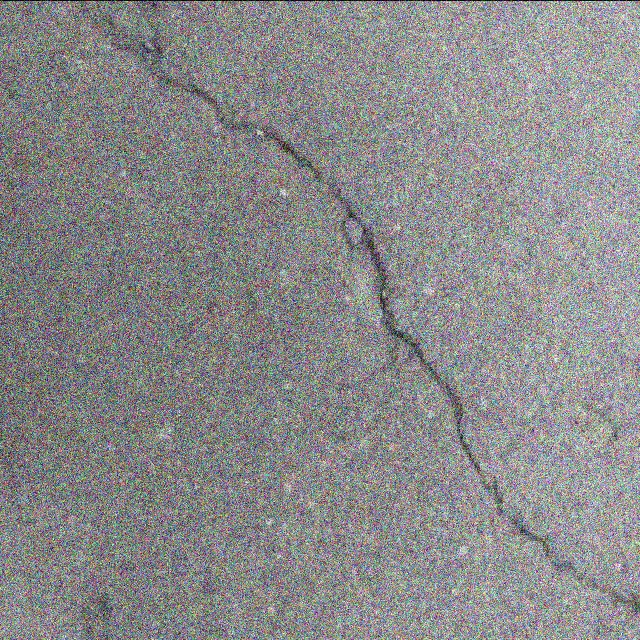SurfaceCrack: (58, 0, 640, 634)
